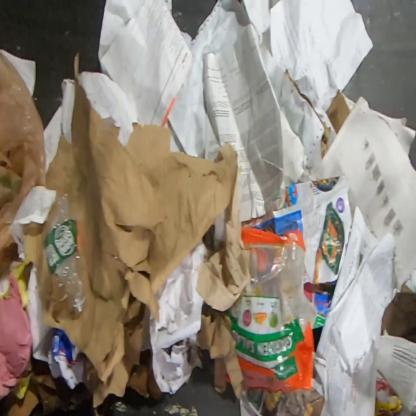cardboard: (4, 374, 64, 415), (381, 282, 415, 344), (325, 88, 352, 135)
rigid_plastic: (42, 193, 88, 318)
soft_plastic: (228, 226, 328, 394), (0, 50, 48, 277)
